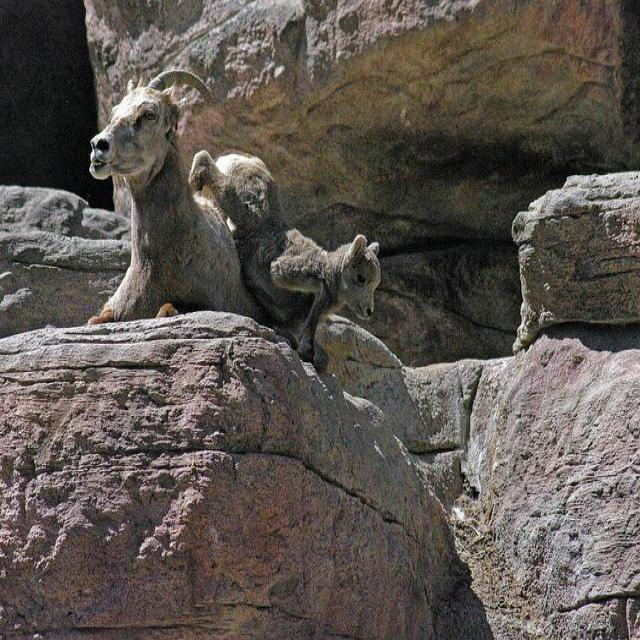Sheep: (90, 73, 255, 323), (188, 152, 380, 363)
